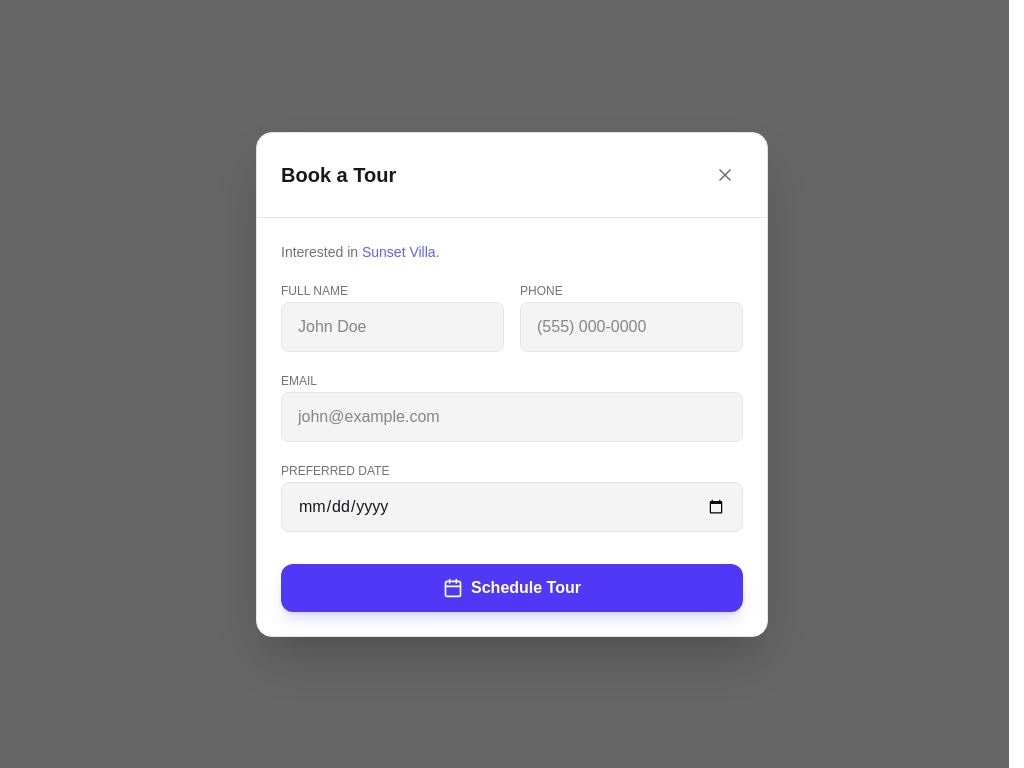
BookTourModal › validates form inputs
Click the button "Schedule Tour" at {"x": 512, "y": 588}, box 281,564 -> 743,612
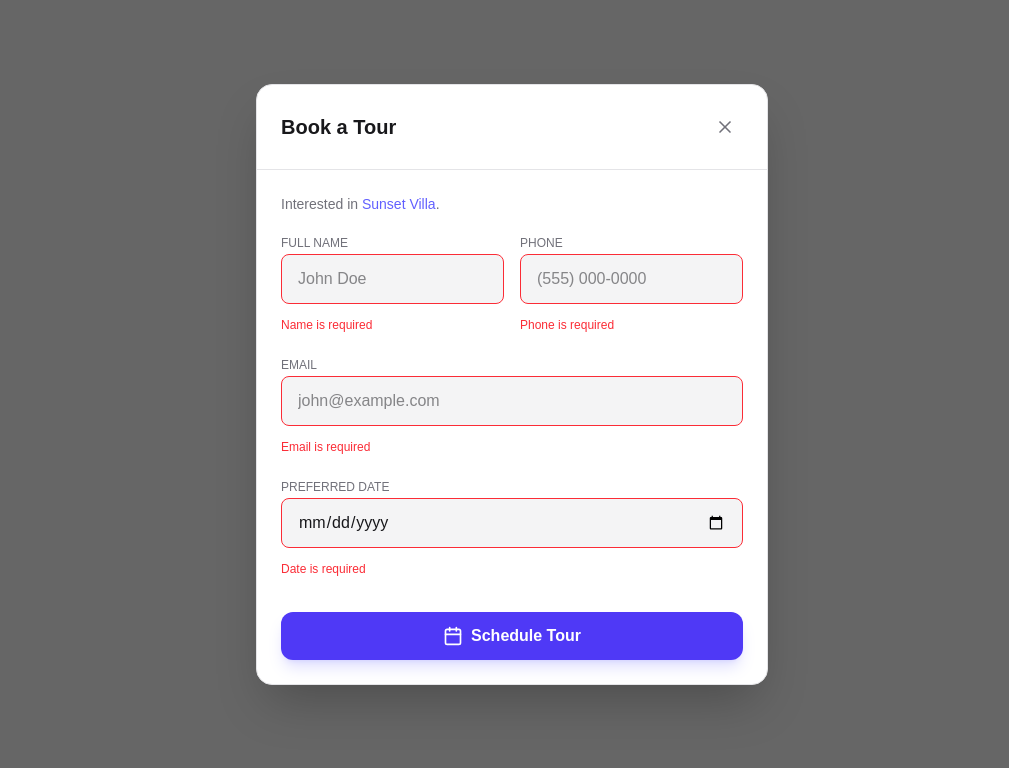
Now the text "Name is required" is shown, box 281,318 -> 372,332
Now the text "Email is required" is shown, box 281,440 -> 370,454
